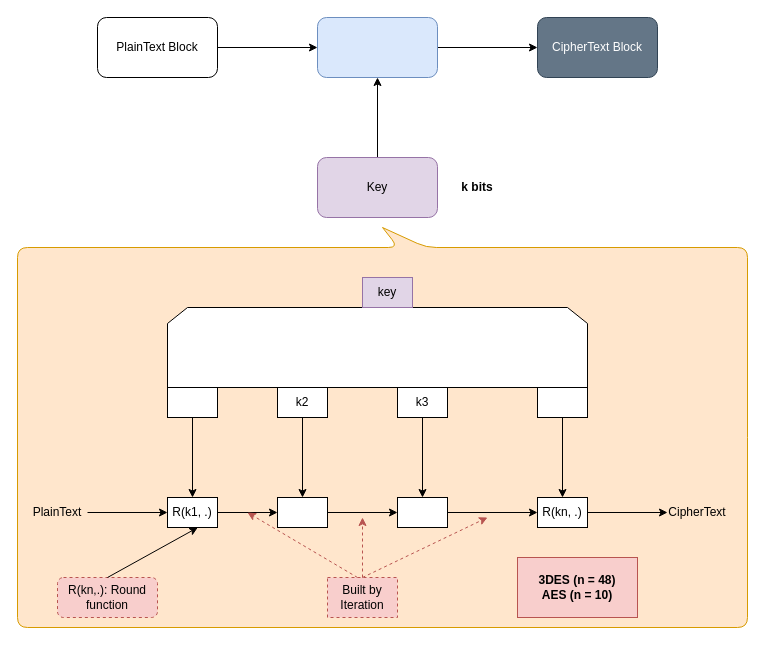
The diagram is 765 pixels wide and 645 high, and some of its shapes have lost their labels. Each missing label, with the centre of its shape:
"E, D" belongs at point 377,47.
"k1" belongs at point 192,402.
"Key expansion" belongs at point 377,347.
"kn" belongs at point 562,402.
"R(k2, .)" belongs at point 302,512.
"R(k3, .)" belongs at point 422,512.
